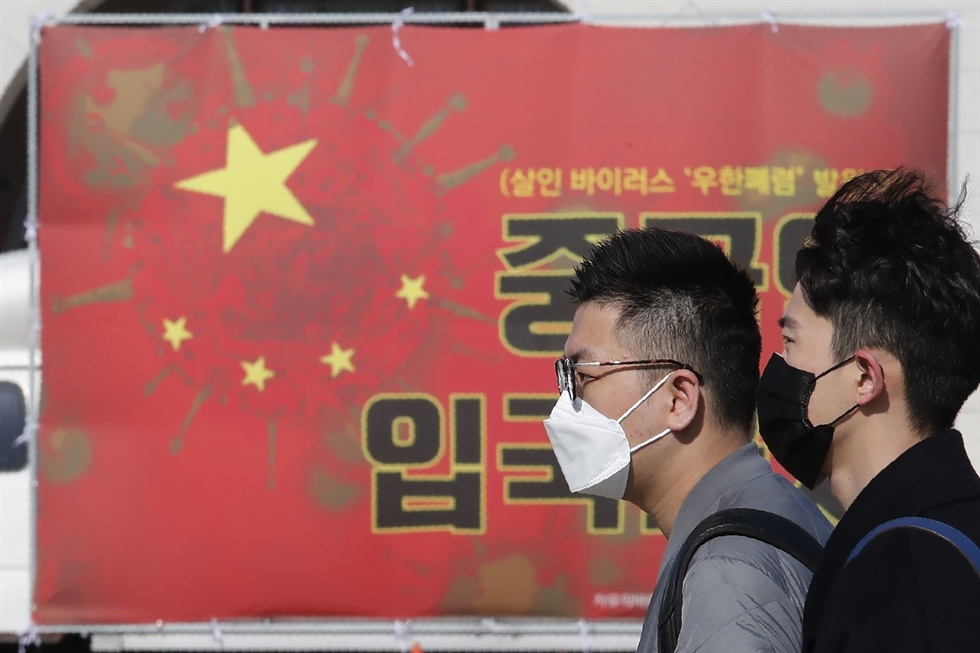with_mask: (757, 238, 960, 490), (547, 258, 751, 504)
